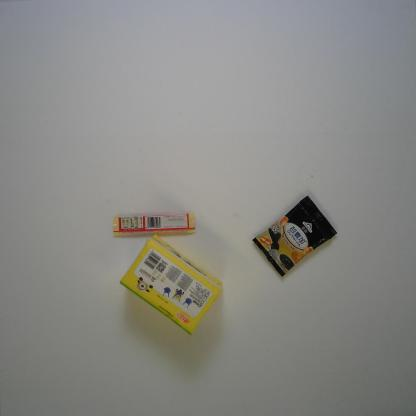Chocolate: (111, 212, 197, 237)
Instant Drink: (252, 194, 338, 278)
Tissue: (118, 232, 223, 336)
